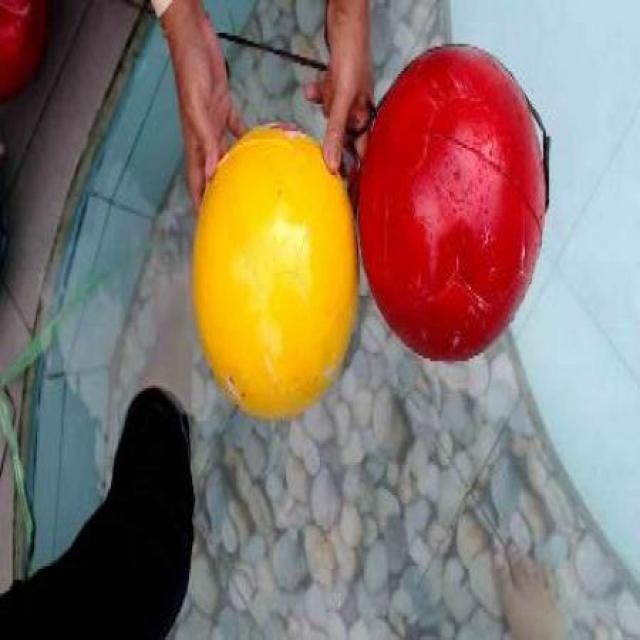buoy: (357, 40, 545, 360), (191, 120, 359, 416)
